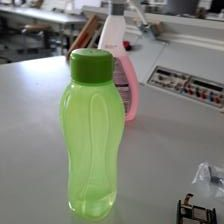bottle: (61, 48, 125, 218)
